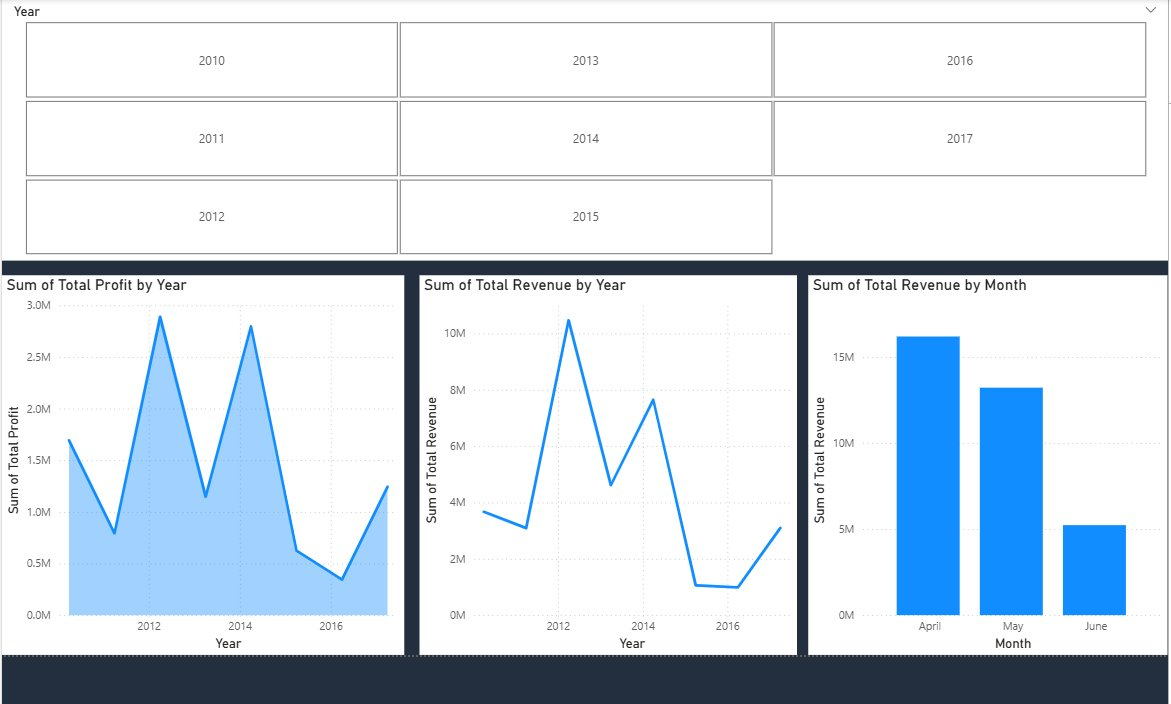

What the dashboard file says about the page in this screenshot:
{"tool":"powerbi","page":{"name":"Time Series Trend","canvas":[1280,720],"ordinal":7},"visuals":[{"type":"lineChart","fields":{"Category":["Amazon_Sales_Clean.Order Date.Variation.Date Hierarchy.Year"],"Y":["Sum(Amazon_Sales_Clean.Total Revenue)"]},"box":[458.6,302.9,414.3,417.1],"z":0},{"type":"actionButton","box":[0,0,100,40],"z":1000},{"type":"areaChart","fields":{"Category":["Amazon_Sales_Clean.Order Date.Variation.Date Hierarchy.Year","Amazon_Sales_Clean.Order Date.Variation.Date Hierarchy.Quarter","Amazon_Sales_Clean.Order Date.Variation.Date Hierarchy.Month","Amazon_Sales_Clean.Order Date.Variation.Date Hierarchy.Day"],"Y":["Sum(Amazon_Sales_Clean.Total Profit)"]},"box":[0,302.9,441.4,417.1],"z":2000},{"type":"columnChart","fields":{"Category":["Amazon_Sales_Clean.Order Date.Variation.Date Hierarchy.Month"],"Y":["Sum(Amazon_Sales_Clean.Total Revenue)"]},"box":[885.7,302.9,394.3,417.1],"z":3000},{"type":"slicer","fields":{"Values":["Amazon_Sales_Clean.Order Date.Variation.Date Hierarchy.Year"]},"box":[0,0,1280,287.1],"z":4000}]}

Visuals, with their boxes on the page's 1280x720 design canvas (x1, y1, x2, y2). These are canvas units, not pixel positions in the 1171x704 screenshot, which may show the page scaled, cropped or inside an application window:
lineChart - Amazon_Sales_Clean.Order Date.Variation.Date Hierarchy.Year x Sum(Amazon_Sales_Clean.Total Revenue): [left=459, top=303, right=873, bottom=720]
actionButton: [left=0, top=0, right=100, bottom=40]
areaChart - Amazon_Sales_Clean.Order Date.Variation.Date Hierarchy.Year x Amazon_Sales_Clean.Order Date.Variation.Date Hierarchy.Quarter: [left=0, top=303, right=441, bottom=720]
columnChart - Amazon_Sales_Clean.Order Date.Variation.Date Hierarchy.Month x Sum(Amazon_Sales_Clean.Total Revenue): [left=886, top=303, right=1280, bottom=720]
slicer - Amazon_Sales_Clean.Order Date.Variation.Date Hierarchy.Year: [left=0, top=0, right=1280, bottom=287]
